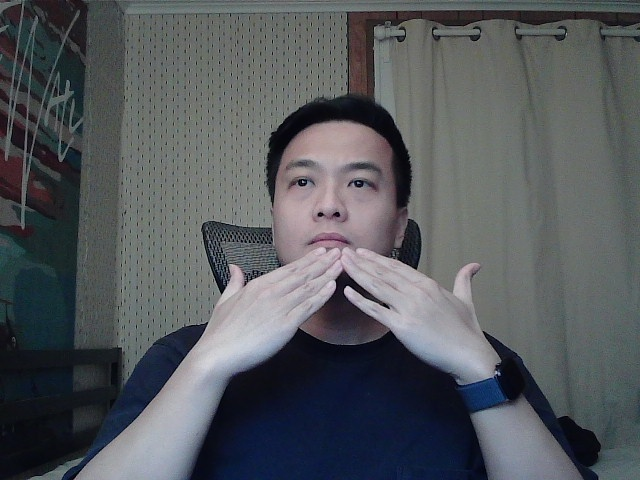Thank You: (191, 242, 513, 384)
